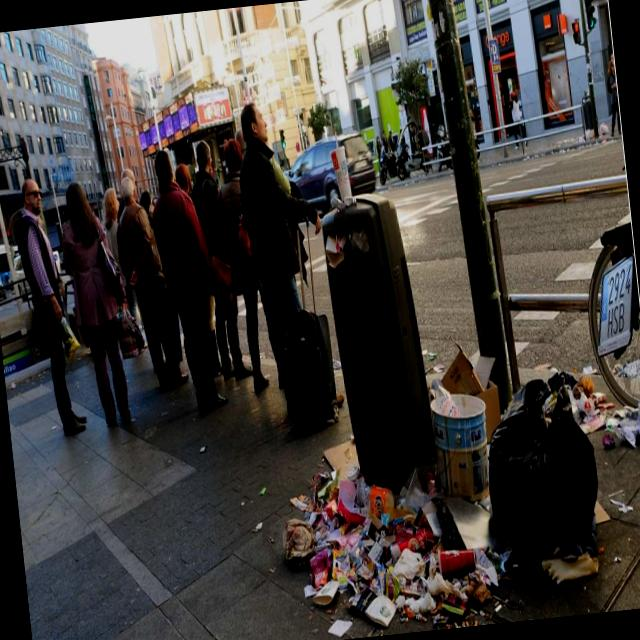garbage: (274, 328, 636, 640)
